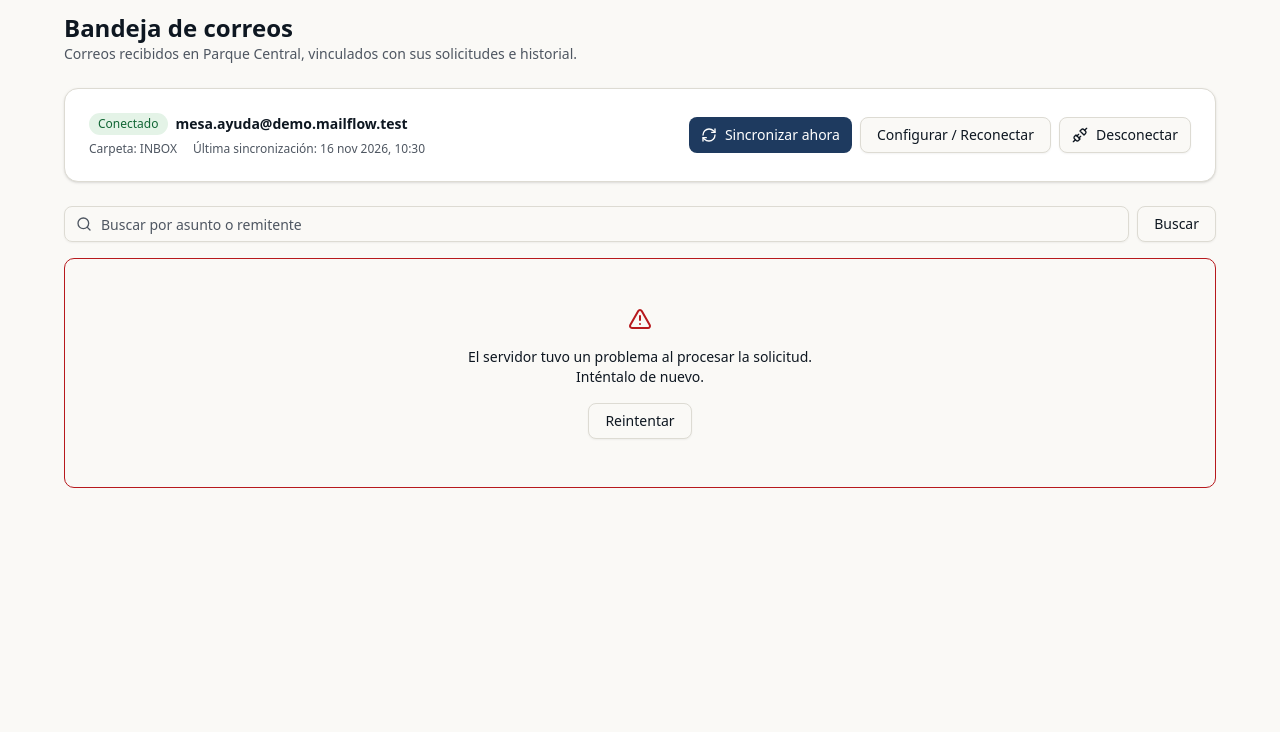
it: BandejaPage · estados de carga, error y vacío › muestra EstadoError cuando falla la carga de correos y reintenta al pulsar Reintentar
Click the button "Reintentar".
click(640, 421)  # box [588,403,692,439]
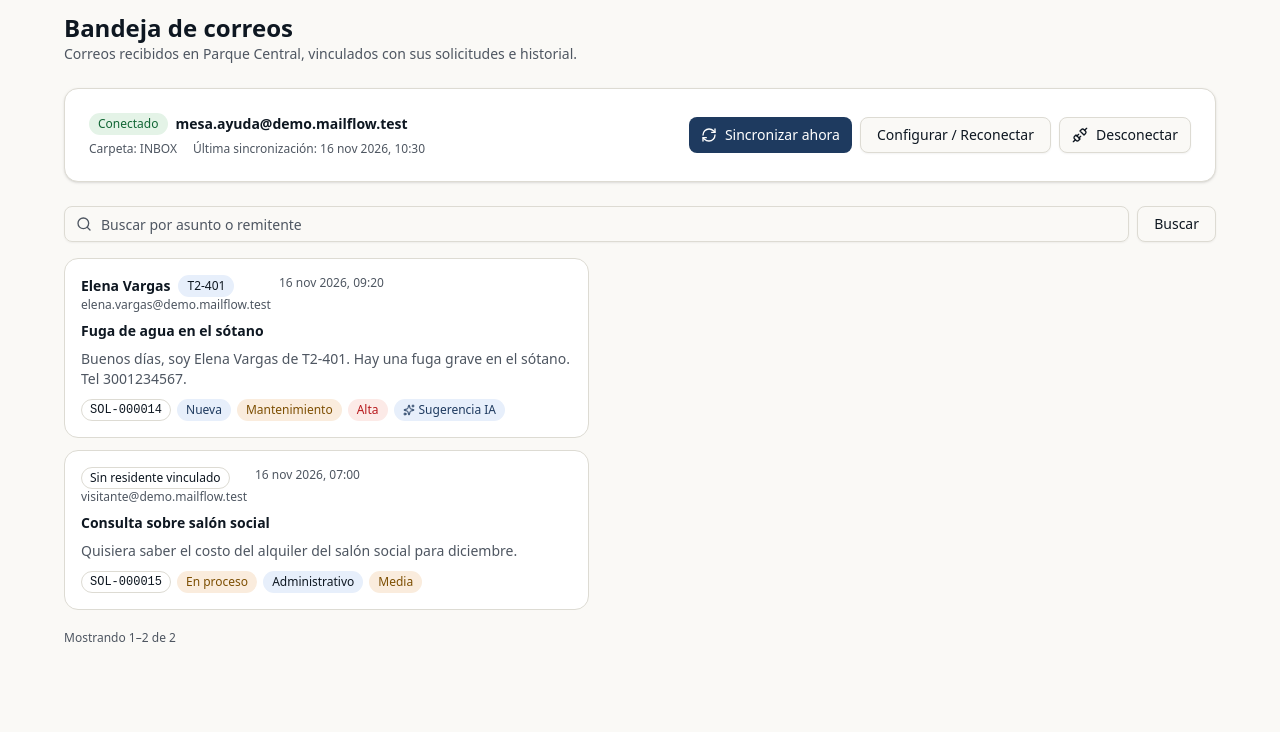
expect the text "Fuga de agua en el sótano" is shown: met, box [81,321,264,341]
